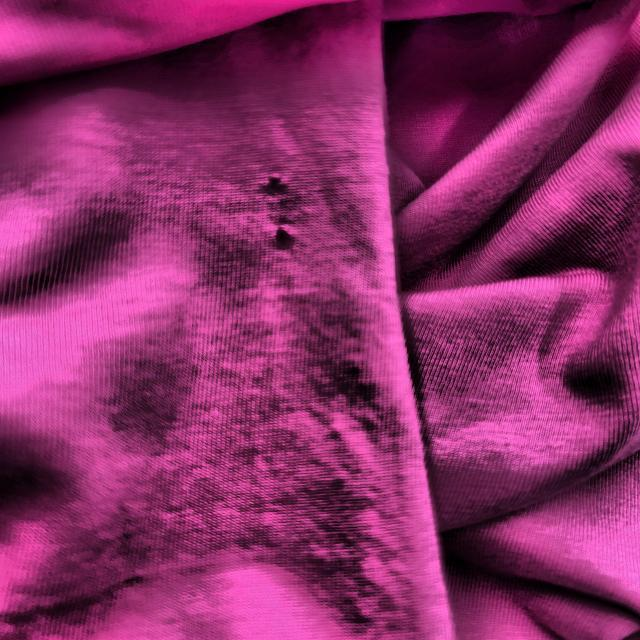cut: (248, 163, 295, 201), (265, 225, 295, 256)
